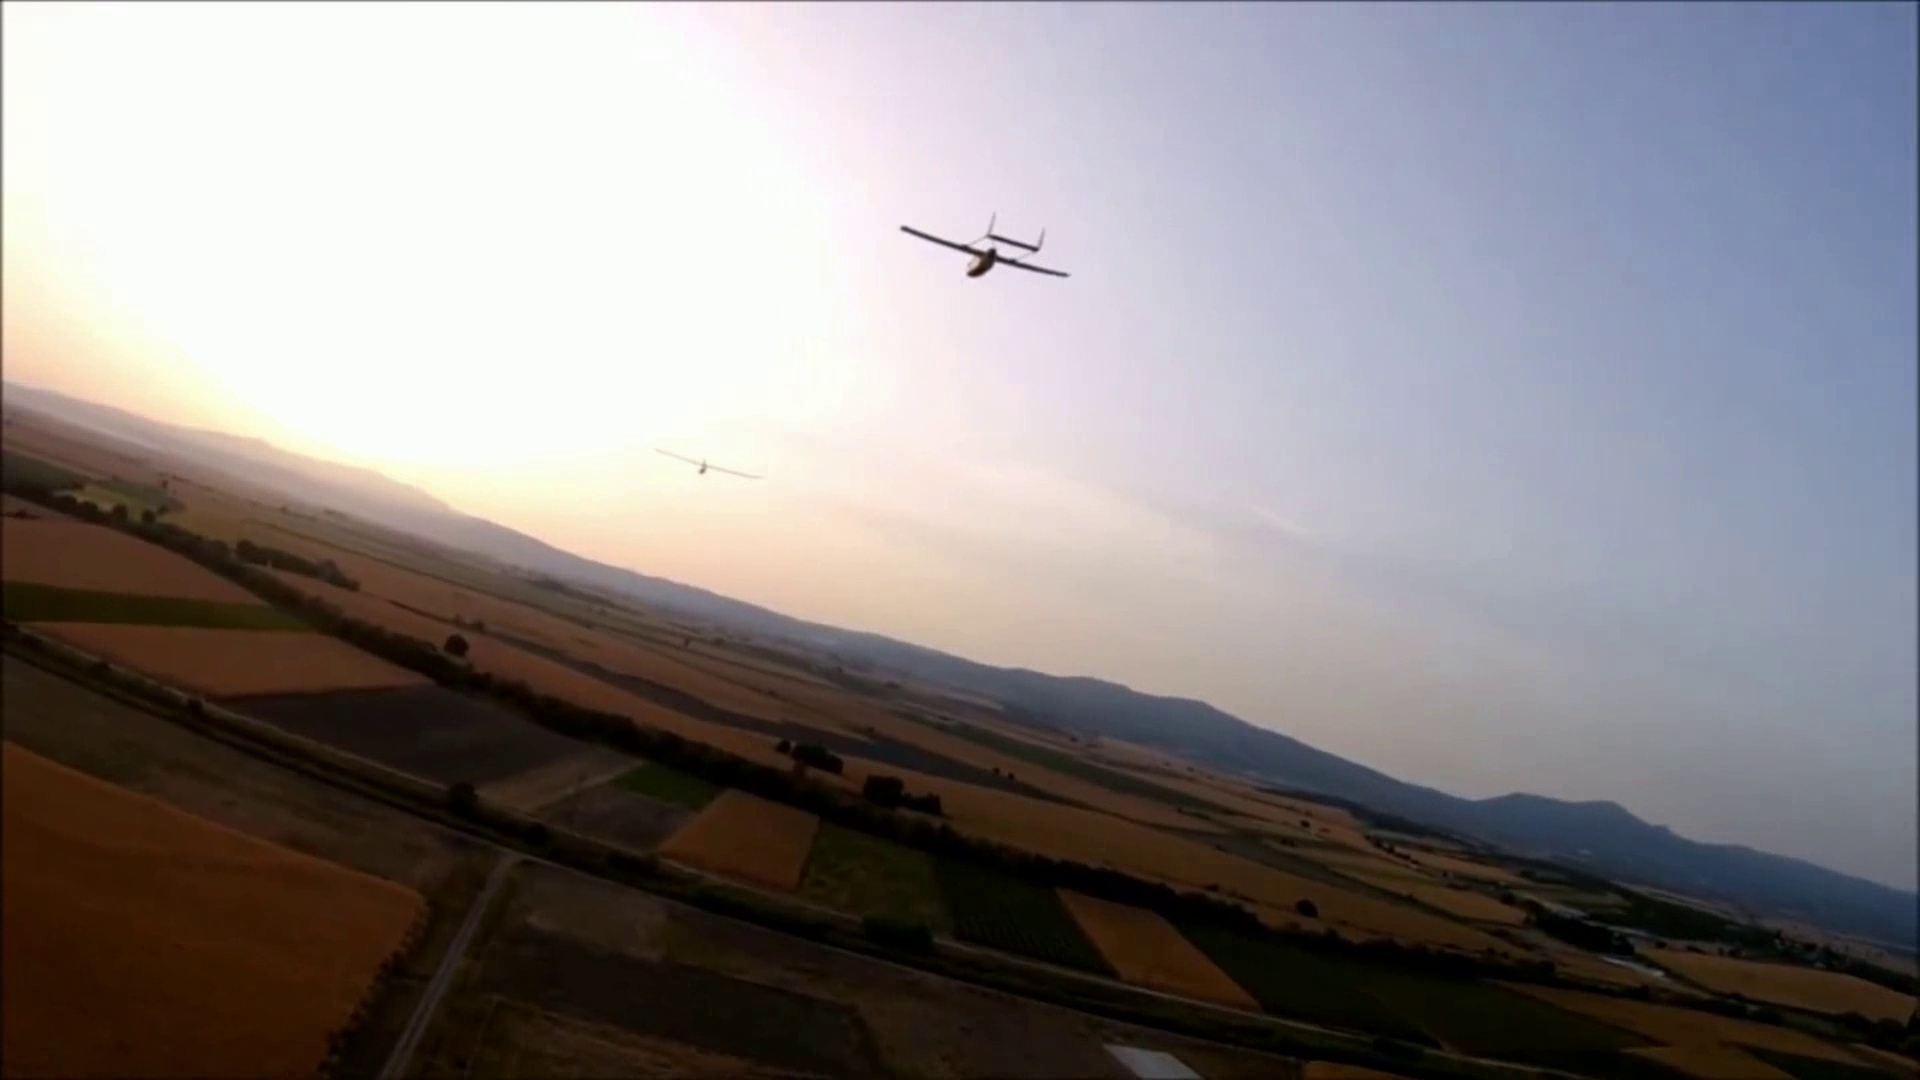airplane: (896, 211, 1069, 281)
